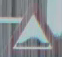Speed Breaker ahead: (7, 1, 55, 52)
